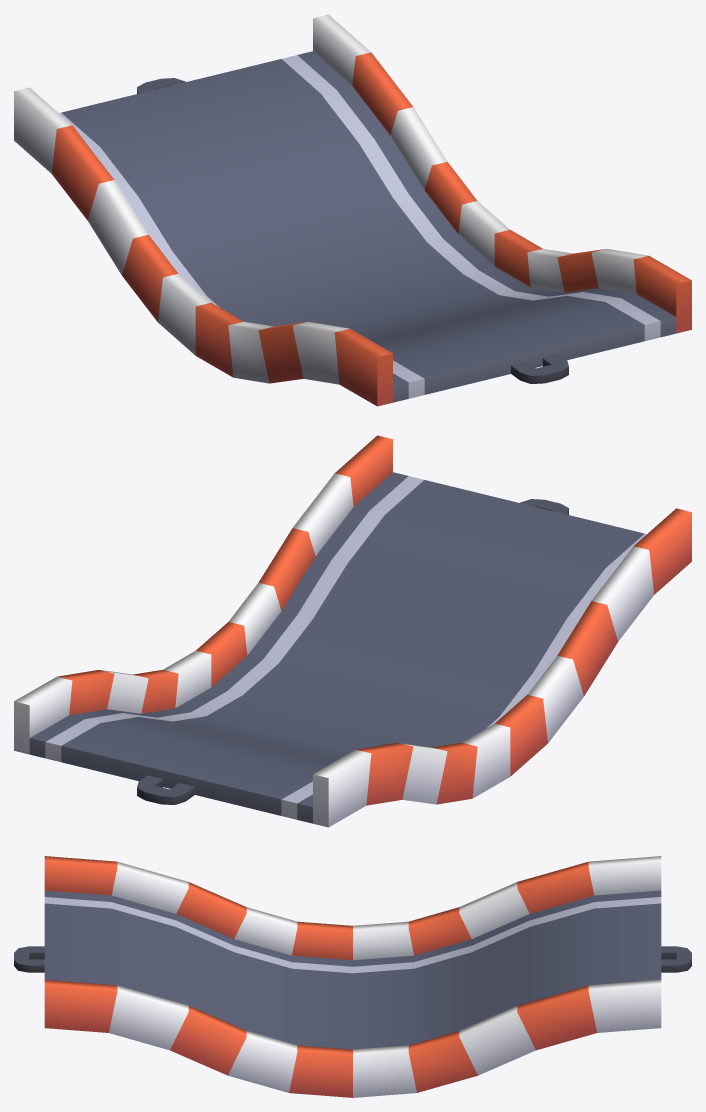
Rendered from kenney-toy-car-track-road-wide-straight-bump-down.glb.
3 views of the same model, one above another, from view 1: azimuth 30°, elevation 25°; view 2: azimuth 150°, elevation 25°; view 3: azimuth 270°, elevation 25° (orthographic). The views are drawn at different scales.
Parts seen in each view (by area): view 1: track-road-wide-straight-bump-down; view 2: track-road-wide-straight-bump-down; view 3: track-road-wide-straight-bump-down.
Part boxes in pixels (box(x1,y1,x2,y2)): track-road-wide-straight-bump-down: box(14, 14, 691, 406); track-road-wide-straight-bump-down: box(14, 435, 691, 827); track-road-wide-straight-bump-down: box(14, 856, 691, 1097).
Bounding box in the file's own units: 2 × 0.7998 × 4.4.
Materials: 1 (1 with a texture image).
